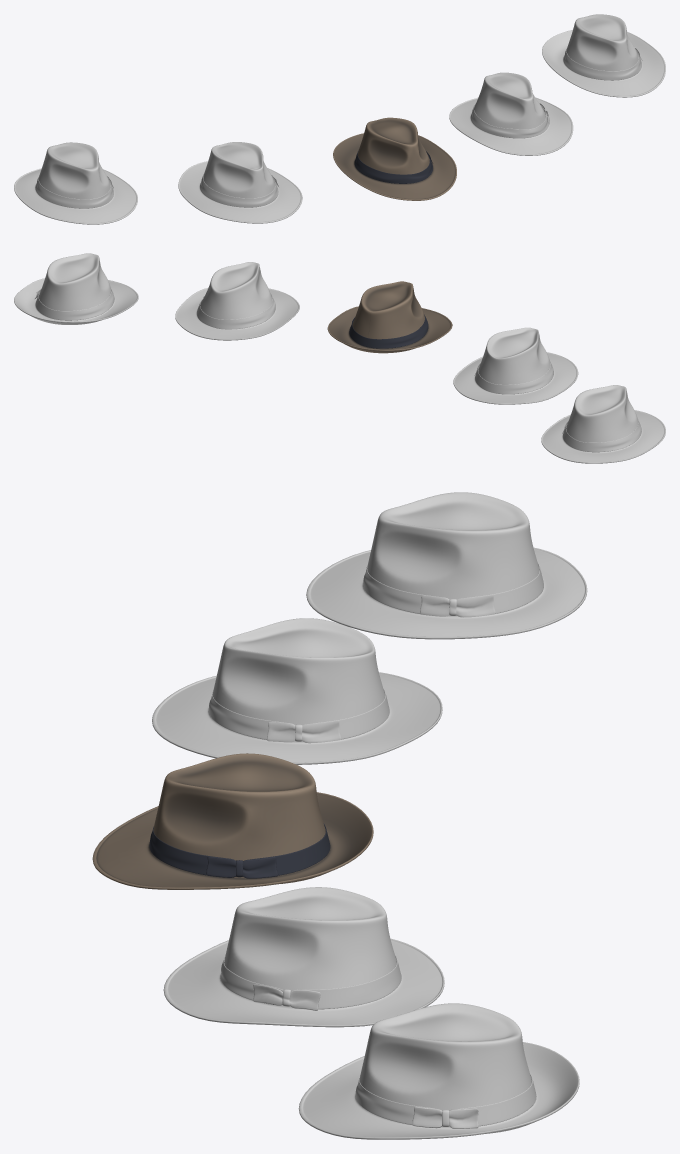
The model's file is Hats.fbx.
3 views of the same model, one above another, from view 1: azimuth 30°, elevation 25°; view 2: azimuth 150°, elevation 25°; view 3: azimuth 270°, elevation 25° (orthographic). The views are drawn at different scales.
Parts seen in each view (by area): view 1: hat3, hat5, hat2, hat1, hat4, Circle.012, Circle.004, Circle.002, Circle.010, Circle.009; view 2: hat1, hat2, hat4, hat3, hat5, Circle.009, Circle.012, Circle.004, Circle.010, Circle.002; view 3: hat1, hat2, hat4, hat3, hat5, Circle.009, Circle.002, Circle.010, Circle.004, Circle.012, Circle.003, Circle.006 (+3 smaller).
Boxes of the visible parts, left/top/right/bottom form: hat3: left=333, top=117, right=456, bottom=200; hat5: left=542, top=14, right=665, bottom=97; hat2: left=178, top=142, right=302, bottom=223; hat1: left=14, top=142, right=137, bottom=224; hat4: left=449, top=72, right=573, bottom=155; Circle.012: left=35, top=175, right=113, bottom=208; Circle.004: left=200, top=174, right=278, bottom=207; Circle.002: left=563, top=47, right=641, bottom=80; Circle.010: left=354, top=150, right=432, bottom=183; Circle.009: left=470, top=103, right=548, bottom=138; hat1: left=541, top=385, right=665, bottom=463; hat2: left=453, top=327, right=578, bottom=404; hat4: left=175, top=262, right=299, bottom=340; hat3: left=327, top=281, right=452, bottom=353; hat5: left=14, top=253, right=138, bottom=324; Circle.009: left=197, top=293, right=275, bottom=329; Circle.012: left=562, top=418, right=641, bottom=452; Circle.004: left=475, top=361, right=553, bottom=394; Circle.010: left=349, top=314, right=428, bottom=348; Circle.002: left=35, top=287, right=114, bottom=320; hat1: left=306, top=492, right=587, bottom=639; hat2: left=152, top=618, right=442, bottom=764; hat4: left=163, top=887, right=444, bottom=1027; hat3: left=92, top=753, right=373, bottom=889; hat5: left=298, top=1003, right=579, bottom=1139; Circle.009: left=220, top=954, right=401, bottom=1009; Circle.002: left=355, top=1073, right=536, bottom=1126; Circle.010: left=149, top=823, right=330, bottom=875; Circle.004: left=208, top=687, right=389, bottom=739; Circle.012: left=363, top=562, right=543, bottom=613; Circle.003: left=420, top=595, right=495, bottom=617; Circle.006: left=267, top=721, right=341, bottom=743.
Size of what is drawn, in the model's own units: 1837 by 129 by 631.
